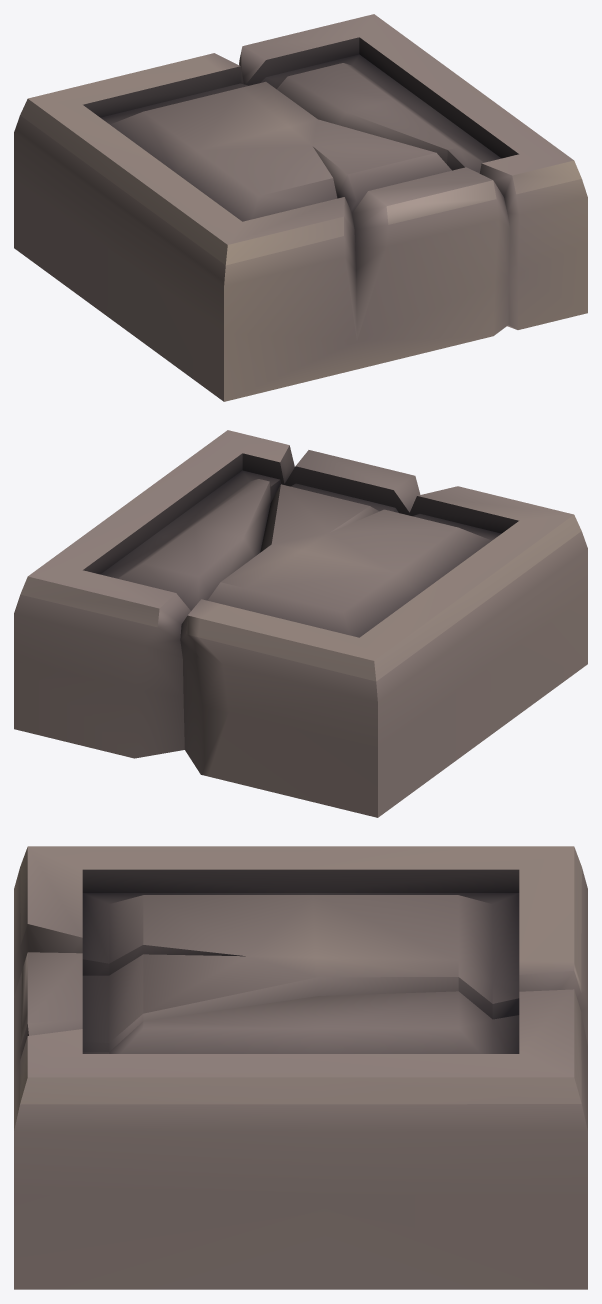
The model's file is buildings-ruins-ancientruins_v9.glb.
3 renders of one model, top to bottom at view 1: azimuth 30°, elevation 25°; view 2: azimuth 150°, elevation 25°; view 3: azimuth 270°, elevation 25°, orthographic. The views are drawn at different scales.
Parts seen in each view (by area): view 1: AncientRuins_v9; view 2: AncientRuins_v9; view 3: AncientRuins_v9.
Boxes of the visible parts, x1,y1,x2,y2 form: AncientRuins_v9: (14,14,587,401); AncientRuins_v9: (14,430,587,817); AncientRuins_v9: (14,846,587,1289).
Bounding box in the file's own units: 3.61 × 1.43 × 3.61.
